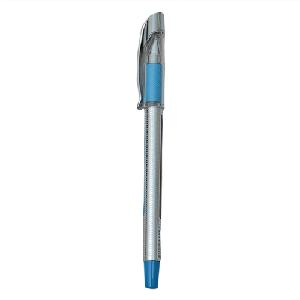pen: (132, 8, 172, 294)
